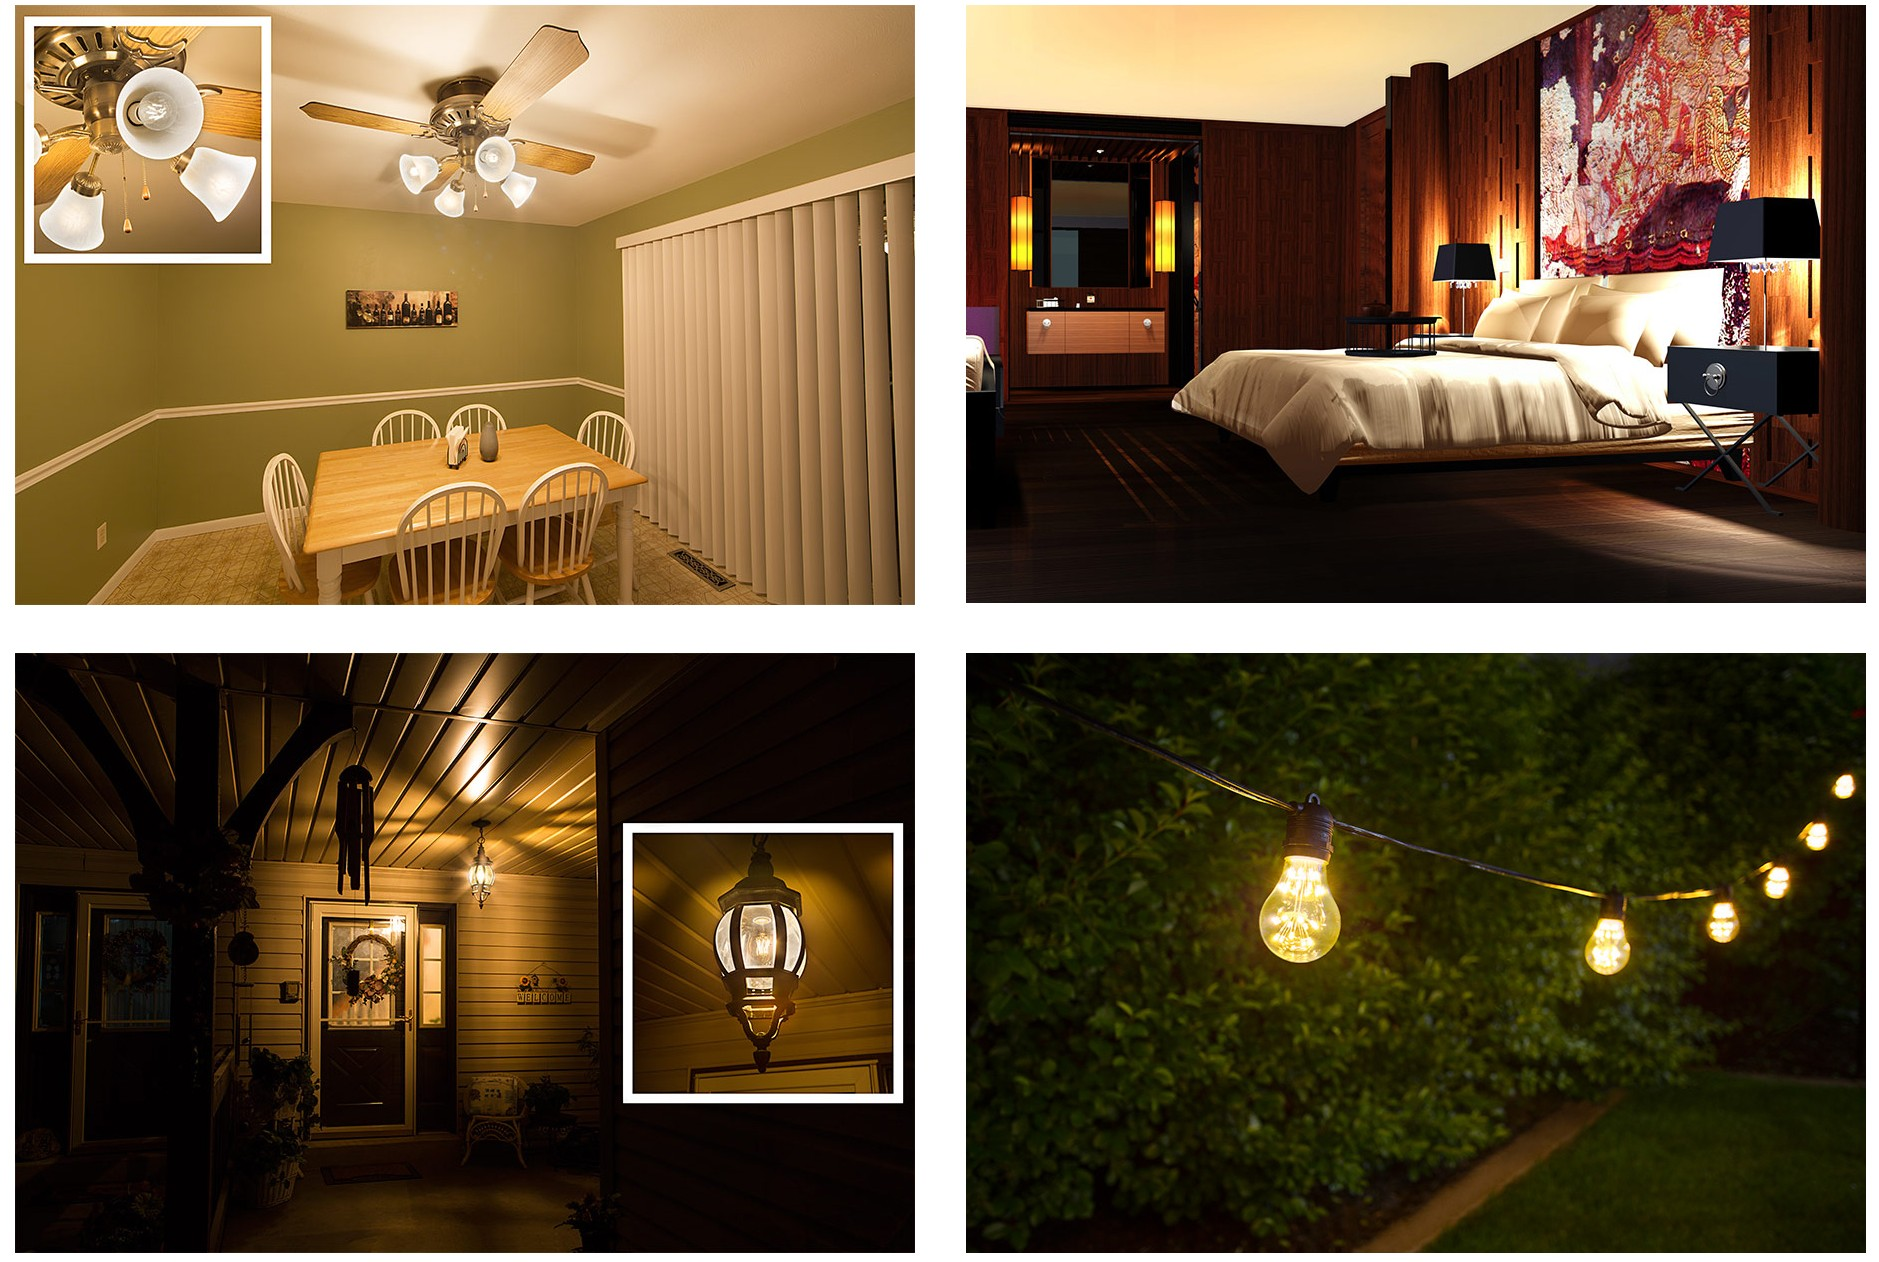bulb: (1238, 845, 1354, 1010), (1571, 910, 1638, 994), (732, 917, 790, 968), (1704, 899, 1747, 965), (1761, 865, 1809, 913), (465, 855, 514, 901), (138, 96, 177, 131), (473, 145, 514, 177)
